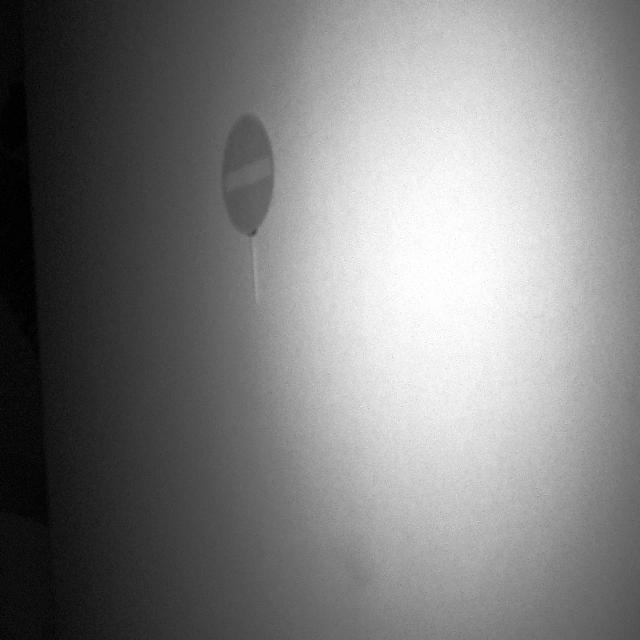Sign: (220, 110, 276, 237)
